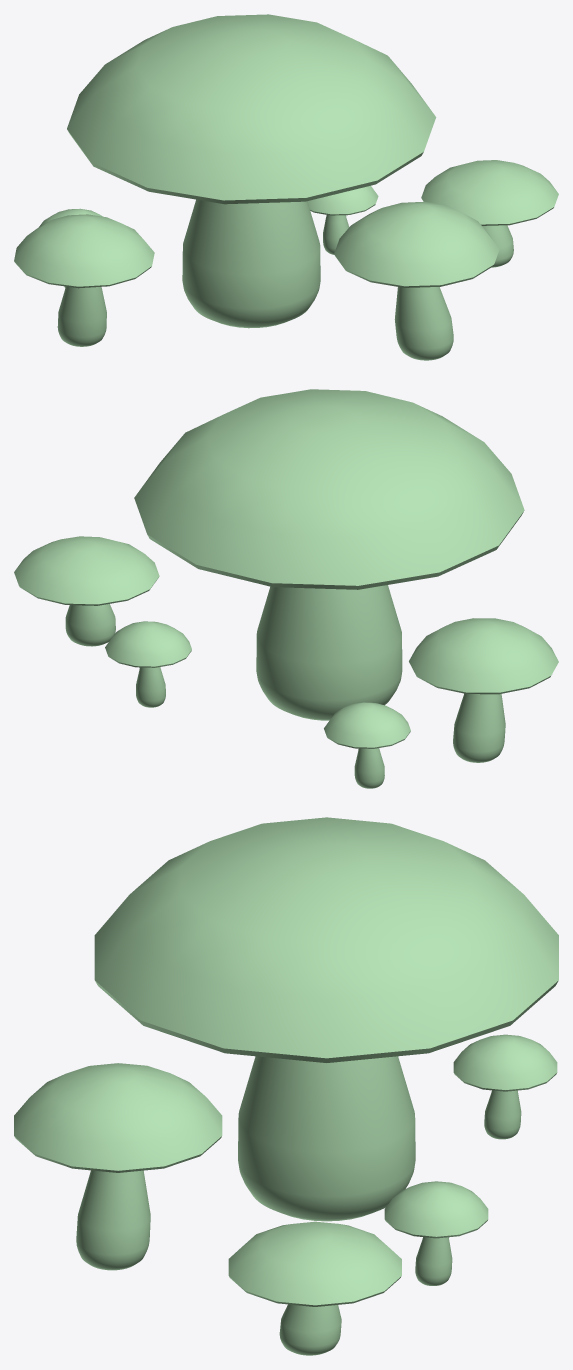
Rendered from mushroom_floor.fbx.
3 renders of one model, top to bottom at view 1: azimuth 30°, elevation 25°; view 2: azimuth 150°, elevation 25°; view 3: azimuth 270°, elevation 25°, orthographic. The views are drawn at different scales.
Parts seen in each view (by area): view 1: Cylinder.005; view 2: Cylinder.005; view 3: Cylinder.005.
Boxes of the visible parts, x1,y1,x2,y2 form: Cylinder.005: (14,14,558,360); Cylinder.005: (14,389,558,788); Cylinder.005: (14,817,558,1355).
Size of the model in its own units: 391 by 197 by 280.
